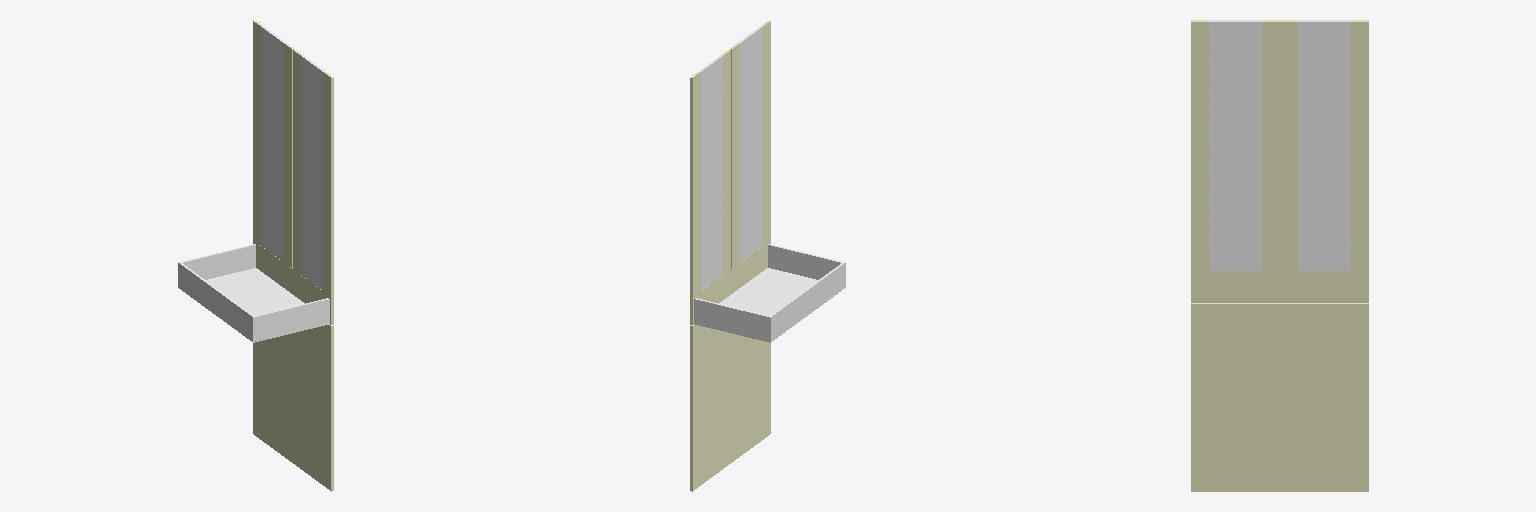
robot.urdf — room602-cupboard:
<?xml version="1.0"?>
<robot name="room602-cupboard"
       xmlns:xi="http://www.w3.org/2001/XInclude"
       >
  <gazebo>
    <static>false</static>
  </gazebo>
  <link name="ROOT_link">
    <visual>
      <origin xyz="0 0 0" rpy="0 -0 0"/>
      <geometry>
        <mesh filename="model://room602-cupboard/meshes/ROOT_link_mesh.dae" scale="1 1 1" />
      </geometry>
    </visual>
    <collision>
      <origin xyz="0 0 0" rpy="0 -0 0"/>
      <geometry>
        <mesh filename="model://room602-cupboard/meshes/ROOT_link_mesh.dae" scale="1 1 1" />
      </geometry>
    </collision>
    <inertial>
      <mass value="0.001" />
      <origin xyz="0 0 0" rpy="0 -0 0"/>
      <inertia ixx="1e-03" ixy="0" ixz="0" iyy="1e-03" iyz="0" izz="1e-03"/>
    </inertial>
  </link>
  <gazebo reference="ROOT_link">
    <mu1>0.9</mu1>
    <mu2>0.9</mu2>
  </gazebo>
  <link name="ROOM602-CUPBOARD-BODYSET2_link">
    <visual>
      <origin xyz="0.171 0.288 0.08" rpy="0 -0 0"/>
      <geometry>
        <mesh filename="model://room602-cupboard/meshes/ROOM602-CUPBOARD-BODYSET2_link_mesh.dae" scale="1 1 1" />
      </geometry>
    </visual>
    <collision>
      <origin xyz="0.171 0.288 0.08" rpy="0 -0 0"/>
      <geometry>
        <mesh filename="model://room602-cupboard/meshes/ROOM602-CUPBOARD-BODYSET2_link_mesh.dae" scale="1 1 1" />
      </geometry>
    </collision>
    <inertial>
      <mass value="0.001" />
      <origin xyz="0 0 0" rpy="0 -0 0"/>
      <inertia ixx="1e-03" ixy="0" ixz="0" iyy="1e-03" iyz="0" izz="1e-03"/>
    </inertial>
  </link>
  <gazebo reference="ROOM602-CUPBOARD-BODYSET2_link">
    <mu1>0.9</mu1>
    <mu2>0.9</mu2>
  </gazebo>
  <link name="ROOM602-CUPBOARD-BODYSET3_link">
    <visual>
      <origin xyz="0.171 -0.288 0.08" rpy="0 -0 0"/>
      <geometry>
        <mesh filename="model://room602-cupboard/meshes/ROOM602-CUPBOARD-BODYSET3_link_mesh.dae" scale="1 1 1" />
      </geometry>
    </visual>
    <collision>
      <origin xyz="0.171 -0.288 0.08" rpy="0 -0 0"/>
      <geometry>
        <mesh filename="model://room602-cupboard/meshes/ROOM602-CUPBOARD-BODYSET3_link_mesh.dae" scale="1 1 1" />
      </geometry>
    </collision>
    <inertial>
      <mass value="0.001" />
      <origin xyz="0 0 0" rpy="0 -0 0"/>
      <inertia ixx="1e-03" ixy="0" ixz="0" iyy="1e-03" iyz="0" izz="1e-03"/>
    </inertial>
  </link>
  <gazebo reference="ROOM602-CUPBOARD-BODYSET3_link">
    <mu1>0.9</mu1>
    <mu2>0.9</mu2>
  </gazebo>
  <link name="ROOM602-CUPBOARD-BODYSET5_link">
    <visual>
      <origin xyz="0.171 0.288 0.885" rpy="0 -0 0"/>
      <geometry>
        <mesh filename="model://room602-cupboard/meshes/ROOM602-CUPBOARD-BODYSET5_link_mesh.dae" scale="1 1 1" />
      </geometry>
    </visual>
    <collision>
      <origin xyz="0.171 0.288 0.885" rpy="0 -0 0"/>
      <geometry>
        <mesh filename="model://room602-cupboard/meshes/ROOM602-CUPBOARD-BODYSET5_link_mesh.dae" scale="1 1 1" />
      </geometry>
    </collision>
    <inertial>
      <mass value="0.001" />
      <origin xyz="0 0 0" rpy="0 -0 0"/>
      <inertia ixx="1e-03" ixy="0" ixz="0" iyy="1e-03" iyz="0" izz="1e-03"/>
    </inertial>
  </link>
  <gazebo reference="ROOM602-CUPBOARD-BODYSET5_link">
    <mu1>0.9</mu1>
    <mu2>0.9</mu2>
  </gazebo>
  <link name="ROOM602-CUPBOARD-BODYSET6_link">
    <visual>
      <origin xyz="0.171 -0.288 0.885" rpy="0 -0 0"/>
      <geometry>
        <mesh filename="model://room602-cupboard/meshes/ROOM602-CUPBOARD-BODYSET6_link_mesh.dae" scale="1 1 1" />
      </geometry>
    </visual>
    <collision>
      <origin xyz="0.171 -0.288 0.885" rpy="0 -0 0"/>
      <geometry>
        <mesh filename="model://room602-cupboard/meshes/ROOM602-CUPBOARD-BODYSET6_link_mesh.dae" scale="1 1 1" />
      </geometry>
    </collision>
    <inertial>
      <mass value="0.001" />
      <origin xyz="0 0 0" rpy="0 -0 0"/>
      <inertia ixx="1e-03" ixy="0" ixz="0" iyy="1e-03" iyz="0" izz="1e-03"/>
    </inertial>
  </link>
  <gazebo reference="ROOM602-CUPBOARD-BODYSET6_link">
    <mu1>0.9</mu1>
    <mu2>0.9</mu2>
  </gazebo>
  <link name="ROOM602-CUPBOARD-BODYSET4_link">
    <visual>
      <origin xyz="0 0 0.822" rpy="0 -0 0"/>
      <geometry>
        <mesh filename="model://room602-cupboard/meshes/ROOM602-CUPBOARD-BODYSET4_link_mesh.dae" scale="1 1 1" />
      </geometry>
    </visual>
    <collision>
      <origin xyz="0 0 0.822" rpy="0 -0 0"/>
      <geometry>
        <mesh filename="model://room602-cupboard/meshes/ROOM602-CUPBOARD-BODYSET4_link_mesh.dae" scale="1 1 1" />
      </geometry>
    </collision>
    <inertial>
      <mass value="0.001" />
      <origin xyz="0 0 0" rpy="0 -0 0"/>
      <inertia ixx="1e-03" ixy="0" ixz="0" iyy="1e-03" iyz="0" izz="1e-03"/>
    </inertial>
  </link>
  <gazebo reference="ROOM602-CUPBOARD-BODYSET4_link">
    <mu1>0.9</mu1>
    <mu2>0.9</mu2>
  </gazebo>
  <joint name="DOOR-LOWER-LEFT" type="revolute">
    <parent link="ROOT_link"/>
    <child  link="ROOM602-CUPBOARD-BODYSET2_link"/>
    <origin xyz="0.171 0.288 0.08" rpy="0 -0 0 "/>
    <axis   xyz="0 0 1"/>
    <limit lower="0" upper="1.5708" effort="100" velocity="0.5" />
    <dynamics damping="0.2" friction="0" />
  </joint>
  <transmission type="pr2_mechanism_model/SimpleTransmission" name="DOOR-LOWER-LEFT_trans" >
    <actuator name="DOOR-LOWER-LEFT_motor" />
    <joint name="DOOR-LOWER-LEFT" />
    <mechanicalReduction>1</mechanicalReduction>
  </transmission>
  <gazebo reference="DOOR-LOWER-LEFT">
    <cfmDamping>0.4</cfmDamping>
  </gazebo>
  <joint name="DOOR-LOWER-RIGHT" type="revolute">
    <parent link="ROOT_link"/>
    <child  link="ROOM602-CUPBOARD-BODYSET3_link"/>
    <origin xyz="0.171 -0.288 0.08" rpy="0 -0 0 "/>
    <axis   xyz="0 0 -1"/>
    <limit lower="0" upper="1.5708" effort="100" velocity="0.5" />
    <dynamics damping="0.2" friction="0" />
  </joint>
  <transmission type="pr2_mechanism_model/SimpleTransmission" name="DOOR-LOWER-RIGHT_trans" >
    <actuator name="DOOR-LOWER-RIGHT_motor" />
    <joint name="DOOR-LOWER-RIGHT" />
    <mechanicalReduction>1</mechanicalReduction>
  </transmission>
  <gazebo reference="DOOR-LOWER-RIGHT">
    <cfmDamping>0.4</cfmDamping>
  </gazebo>
  <joint name="DOOR-UPPER-LEFT" type="revolute">
    <parent link="ROOT_link"/>
    <child  link="ROOM602-CUPBOARD-BODYSET5_link"/>
    <origin xyz="0.171 0.288 0.885" rpy="0 -0 0 "/>
    <axis   xyz="0 0 1"/>
    <limit lower="0" upper="1.5708" effort="100" velocity="0.5" />
    <dynamics damping="0.2" friction="0" />
  </joint>
  <transmission type="pr2_mechanism_model/SimpleTransmission" name="DOOR-UPPER-LEFT_trans" >
    <actuator name="DOOR-UPPER-LEFT_motor" />
    <joint name="DOOR-UPPER-LEFT" />
    <mechanicalReduction>1</mechanicalReduction>
  </transmission>
  <gazebo reference="DOOR-UPPER-LEFT">
    <cfmDamping>0.4</cfmDamping>
  </gazebo>
  <joint name="DOOR-UPPER-RIGHT" type="revolute">
    <parent link="ROOT_link"/>
    <child  link="ROOM602-CUPBOARD-BODYSET6_link"/>
    <origin xyz="0.171 -0.288 0.885" rpy="0 -0 0 "/>
    <axis   xyz="0 0 -1"/>
    <limit lower="0" upper="1.5708" effort="100" velocity="0.5" />
    <dynamics damping="0.2" friction="0" />
  </joint>
  <transmission type="pr2_mechanism_model/SimpleTransmission" name="DOOR-UPPER-RIGHT_trans" >
    <actuator name="DOOR-UPPER-RIGHT_motor" />
    <joint name="DOOR-UPPER-RIGHT" />
    <mechanicalReduction>1</mechanicalReduction>
  </transmission>
  <gazebo reference="DOOR-UPPER-RIGHT">
    <cfmDamping>0.4</cfmDamping>
  </gazebo>
  <joint name="DRAWER" type="prismatic">
    <parent link="ROOT_link"/>
    <child  link="ROOM602-CUPBOARD-BODYSET4_link"/>
    <origin xyz="0 0 0.822" rpy="0 -0 0 "/>
    <axis   xyz="1 0 0"/>
    <limit lower="0" upper="0.353" effort="100" velocity="0.01" />
    <dynamics damping="0.2" friction="0" />
  </joint>
  <transmission type="pr2_mechanism_model/SimpleTransmission" name="DRAWER_trans" >
    <actuator name="DRAWER_motor" />
    <joint name="DRAWER" />
    <mechanicalReduction>1</mechanicalReduction>
  </transmission>
  <gazebo reference="DRAWER">
    <cfmDamping>0.4</cfmDamping>
  </gazebo>
</robot>

--- Render facts (derived) ---
Views: 3 orthographic renders of the robot side by side, from view 1: azimuth 30°, elevation 25°; view 2: azimuth 150°, elevation 25°; view 3: azimuth 270°, elevation 25°.
Robot: room602-cupboard — 6 links, 5 joints (4 revolute, 1 prismatic); root link ROOT_link; default pose: all joints at 0.
Links seen in each view (by area): view 1: ROOM602-CUPBOARD-BODYSET4_link, ROOM602-CUPBOARD-BODYSET6_link, ROOM602-CUPBOARD-BODYSET5_link, ROOM602-CUPBOARD-BODYSET3_link, ROOM602-CUPBOARD-BODYSET2_link; view 2: ROOM602-CUPBOARD-BODYSET4_link, ROOM602-CUPBOARD-BODYSET5_link, ROOM602-CUPBOARD-BODYSET6_link, ROOM602-CUPBOARD-BODYSET2_link, ROOM602-CUPBOARD-BODYSET3_link; view 3: ROOM602-CUPBOARD-BODYSET5_link, ROOM602-CUPBOARD-BODYSET6_link, ROOM602-CUPBOARD-BODYSET2_link, ROOM602-CUPBOARD-BODYSET3_link, ROOM602-CUPBOARD-BODYSET4_link.
Link boxes in pixels (x1,y1,x2,y2): ROOM602-CUPBOARD-BODYSET4_link: (178,240,333,342); ROOM602-CUPBOARD-BODYSET6_link: (293,49,333,296); ROOM602-CUPBOARD-BODYSET5_link: (253,21,293,268); ROOM602-CUPBOARD-BODYSET3_link: (292,324,333,491); ROOM602-CUPBOARD-BODYSET2_link: (253,334,291,461); ROOM602-CUPBOARD-BODYSET4_link: (690,240,845,342); ROOM602-CUPBOARD-BODYSET5_link: (690,49,730,296); ROOM602-CUPBOARD-BODYSET6_link: (730,21,770,268); ROOM602-CUPBOARD-BODYSET2_link: (690,324,731,491); ROOM602-CUPBOARD-BODYSET3_link: (732,334,770,461); ROOM602-CUPBOARD-BODYSET5_link: (1280,20,1368,270); ROOM602-CUPBOARD-BODYSET6_link: (1191,20,1279,270); ROOM602-CUPBOARD-BODYSET2_link: (1280,303,1368,491); ROOM602-CUPBOARD-BODYSET3_link: (1191,303,1279,491); ROOM602-CUPBOARD-BODYSET4_link: (1191,271,1368,302).
Bounding box of the posed robot: 0.3425 × 0.587 × 1.72 m (x, y, z).
Meshes: 6 distinct files referenced, 5 mesh visuals loaded (5 Collada DAE); not drawn: 1 (reference not matched to a file when rendering).